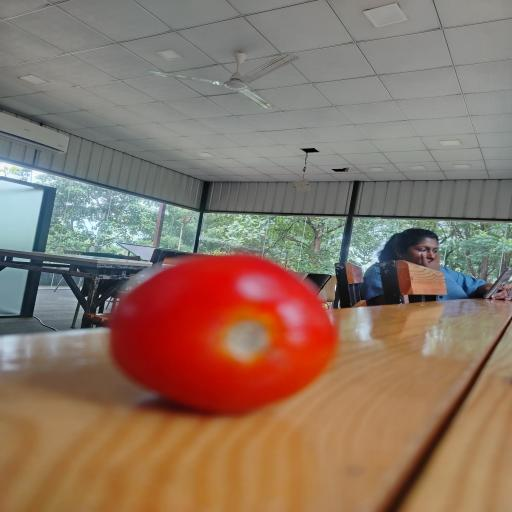ripe: (111, 255, 336, 413)
